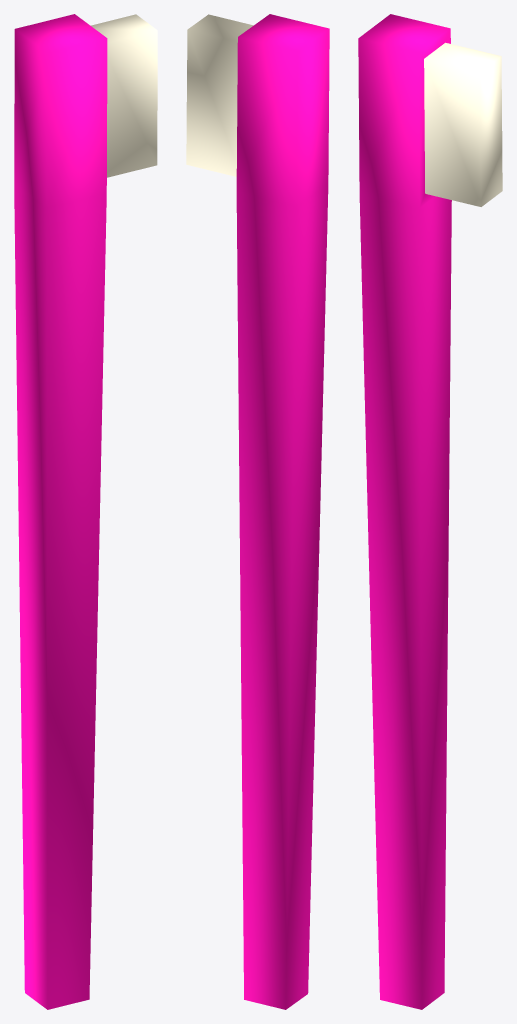
Rendered from ToothBrush.007.glb.
3 renders of one model, left to right at view 1: azimuth 30°, elevation 25°; view 2: azimuth 150°, elevation 25°; view 3: azimuth 330°, elevation 25°, orthographic.
Parts seen in each view (by area): view 1: ToothBrush.007; view 2: ToothBrush.007; view 3: ToothBrush.007.
Boxes of the visible parts, box(x1,y1,x2,y2) form: ToothBrush.007: box(14, 14, 157, 1009); ToothBrush.007: box(186, 14, 329, 1009); ToothBrush.007: box(358, 14, 502, 1009).
Bounding box in the file's own units: 0.0328 × 0.2598 × 0.0163.
Materials: 1 (1 with a texture image).
